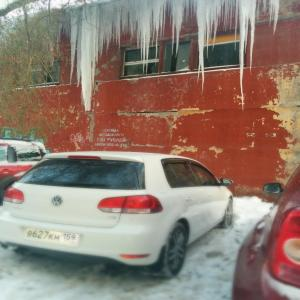Vehicle-registration-plate: (21, 228, 82, 247)
